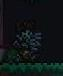zombie: (0, 1, 63, 76)
